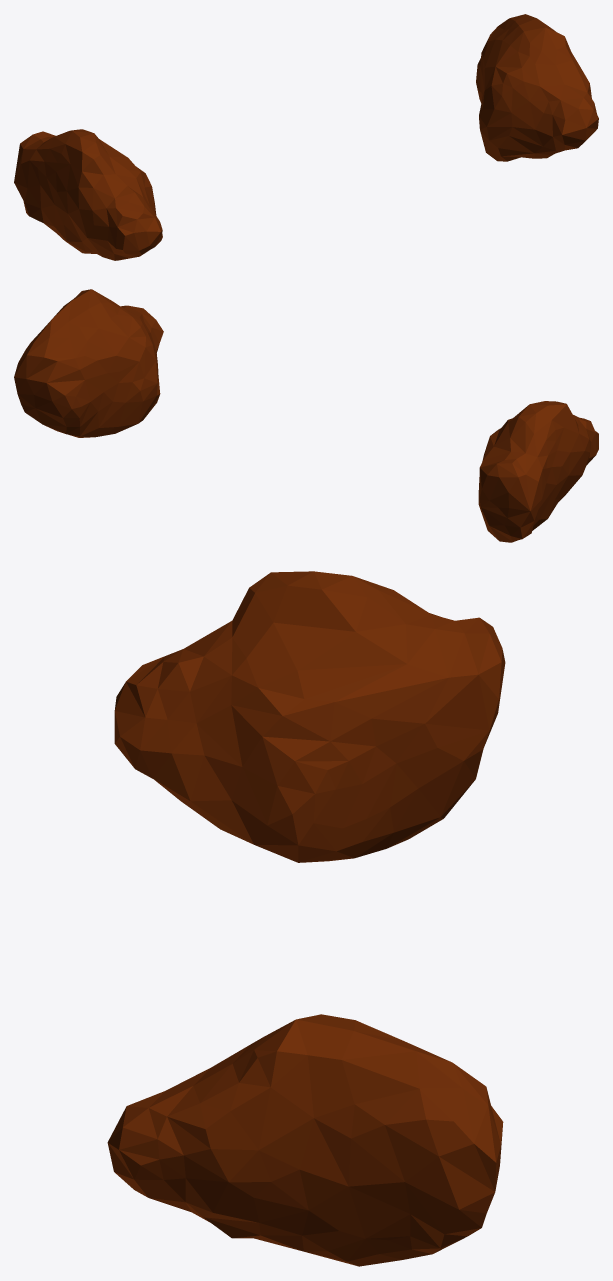
File: 119-BM-basomedial amygdaloid nucleus-('0.4980', '0.1882', '0.0000').obj
The picture shows the model from 3 angles, top to bottom: view 1: azimuth 30°, elevation 25°; view 2: azimuth 150°, elevation 25°; view 3: azimuth 270°, elevation 25°; orthographic projection. The views are drawn at different scales.
Size of the model in its own units: 132 by 31.09 by 44.06.
